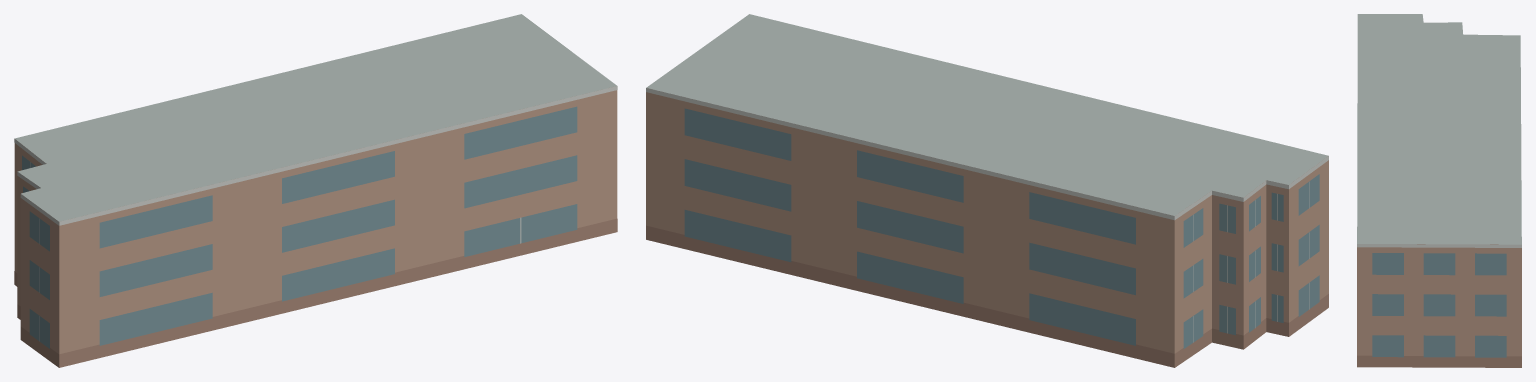
The model's file is survey-upis-32933890.glb.
The picture shows the model from 3 angles, left to right: view 1: azimuth 30°, elevation 25°; view 2: azimuth 150°, elevation 25°; view 3: azimuth 270°, elevation 25°; orthographic projection. The views are drawn at different scales.
Visible parts, largest first — view 1: survey-upis-32933890.tmp; view 2: survey-upis-32933890.tmp; view 3: survey-upis-32933890.tmp.
Part boxes in pixels (x1,y1,x2,y2): survey-upis-32933890.tmp: [14, 14, 617, 367]; survey-upis-32933890.tmp: [646, 14, 1328, 367]; survey-upis-32933890.tmp: [1357, 14, 1521, 367].
Size of the model in its own units: 34.89 by 8.7 by 10.54.
